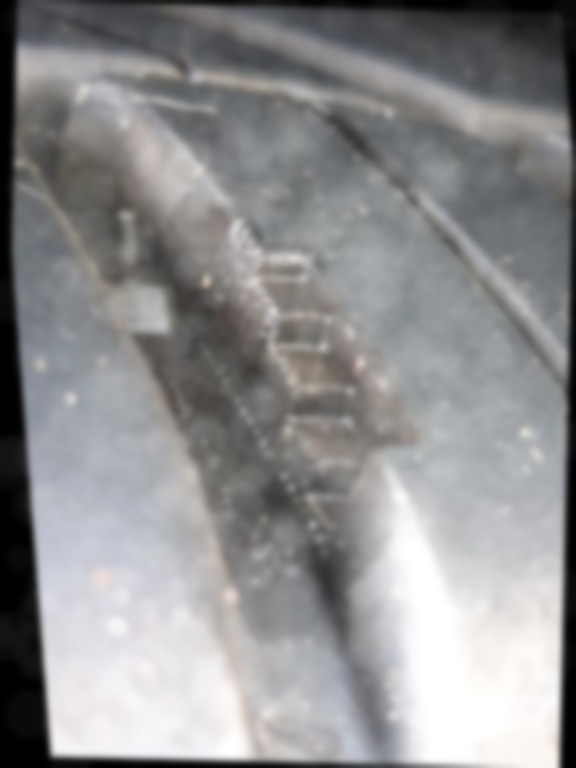temoin:90: (160, 203, 464, 586)
